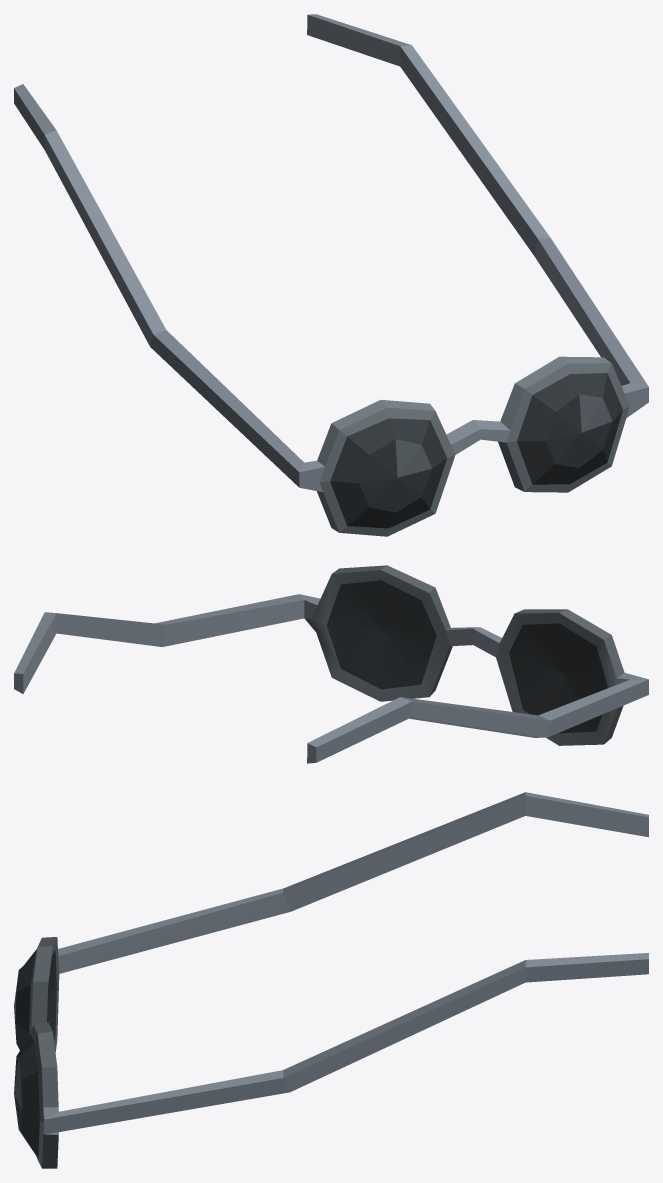
The model's file is SM_Chr_Attach_Glasses_01.fbx.
The picture shows the model from 3 angles, top to bottom: view 1: azimuth 30°, elevation 25°; view 2: azimuth 150°, elevation 25°; view 3: azimuth 270°, elevation 25°; orthographic projection. The views are drawn at different scales.
Parts seen in each view (by area): view 1: SM_Chr_Attach_Glasses_01; view 2: SM_Chr_Attach_Glasses_01; view 3: SM_Chr_Attach_Glasses_01.
Part boxes in pixels (left/top/right/bottom): SM_Chr_Attach_Glasses_01: left=14, top=14, right=648, bottom=536; SM_Chr_Attach_Glasses_01: left=14, top=565, right=648, bottom=763; SM_Chr_Attach_Glasses_01: left=14, top=792, right=648, bottom=1168.
Bounding box in the file's own units: 17.69 × 10.47 × 25.05.
